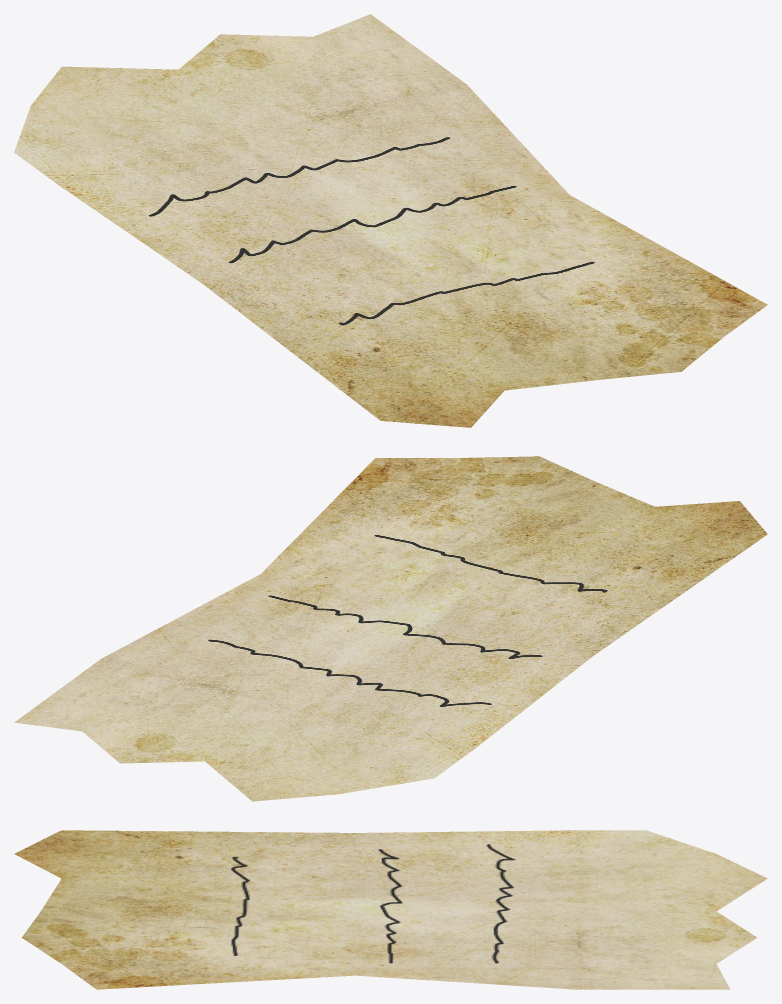
File: nota.fbx
The picture shows the model from 3 angles, top to bottom: view 1: azimuth 30°, elevation 25°; view 2: azimuth 150°, elevation 25°; view 3: azimuth 270°, elevation 25°; orthographic projection. The views are drawn at different scales.
Parts seen in each view (by area): view 1: pCube1; view 2: pCube1; view 3: pCube1.
Boxes of the visible parts, x1,y1,x2,y2 form: pCube1: (14, 14, 767, 427); pCube1: (14, 456, 767, 801); pCube1: (14, 830, 767, 989).
Bounding box in the file's own units: 1 × 4.26e-07 × 2.
